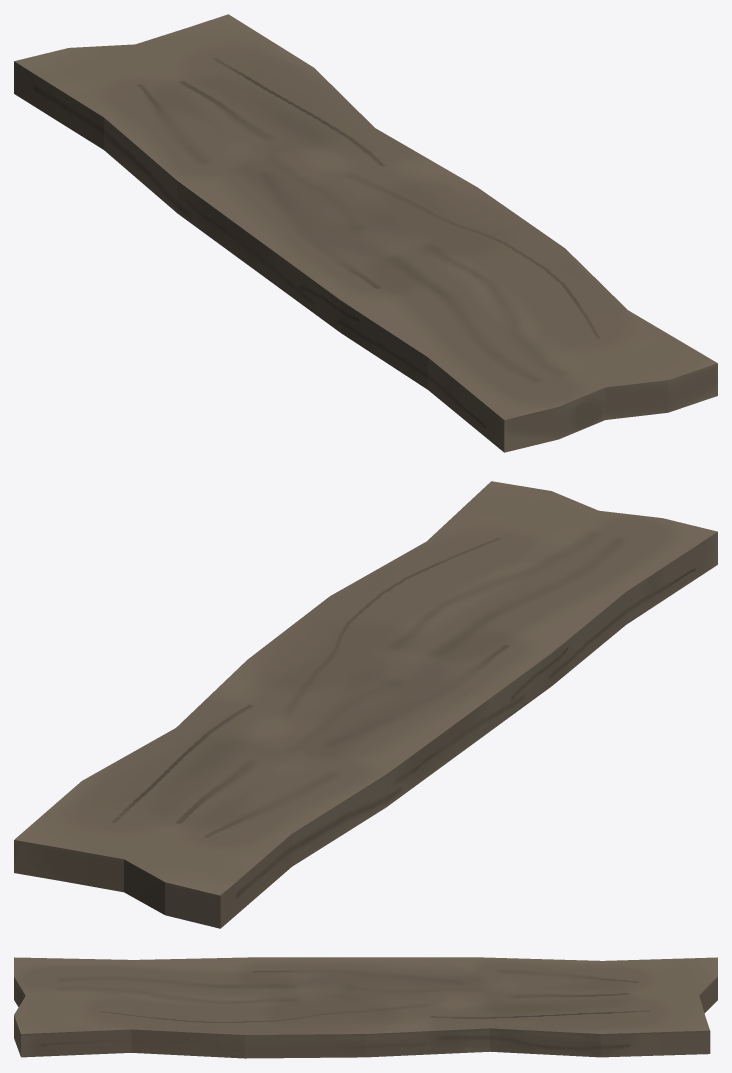
Rendered from plank.fbx.
The picture shows the model from 3 angles, top to bottom: view 1: azimuth 30°, elevation 25°; view 2: azimuth 150°, elevation 25°; view 3: azimuth 270°, elevation 25°; orthographic projection. The views are drawn at different scales.
Visible parts, largest first — view 1: plank; view 2: plank; view 3: plank.
Boxes of the visible parts, <box> form: plank: <box>14,14,717,452</box>; plank: <box>14,481,717,928</box>; plank: <box>14,957,717,1058</box>.
Bounding box in the file's own units: 52.26 × 200 × 7.34.
